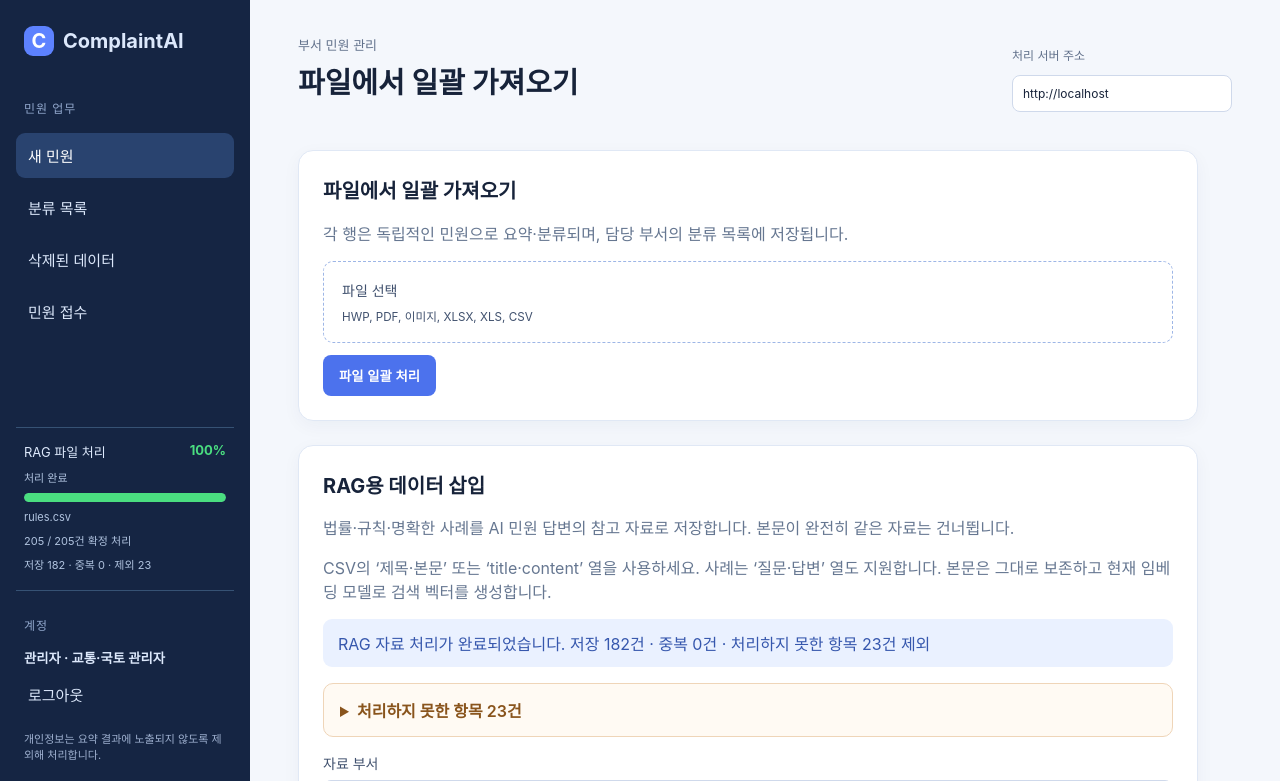
Test: restores exception counts after reload and paginates the details
Expected: the text "RAG 자료 처리가 완료되었습니다. 저장 182건 · 중복 0건 · 처리하지 못한 항목 23건 제외" is shown, [323, 619, 1173, 667]
Click the heading "처리하지 못한 항목 23건" at point(439, 711), box [357, 701, 522, 721]
(page scrolled)
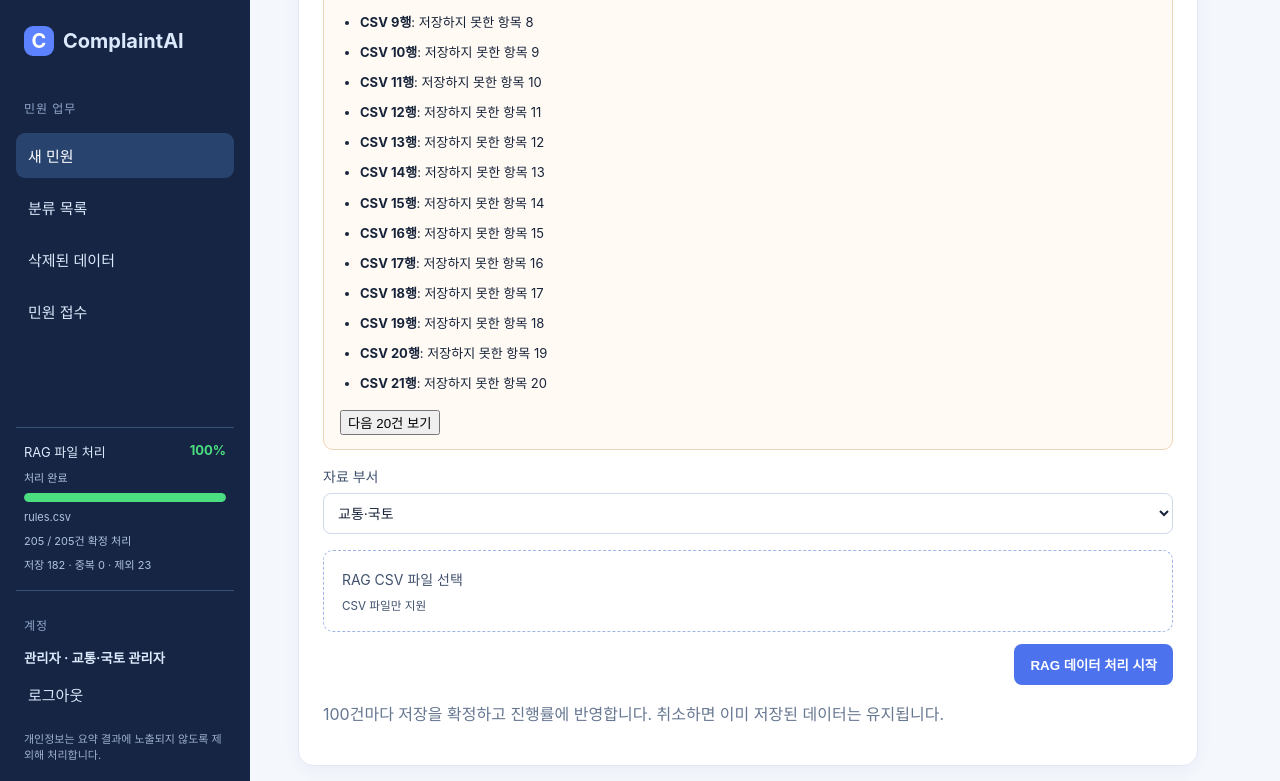
Expected: the text "CSV 24행" is not shown
Expected: the text "CSV 21행" is shown, [360, 375, 417, 391]
Click the button "다음 20건 보기" at point(390, 423), box [340, 410, 440, 435]
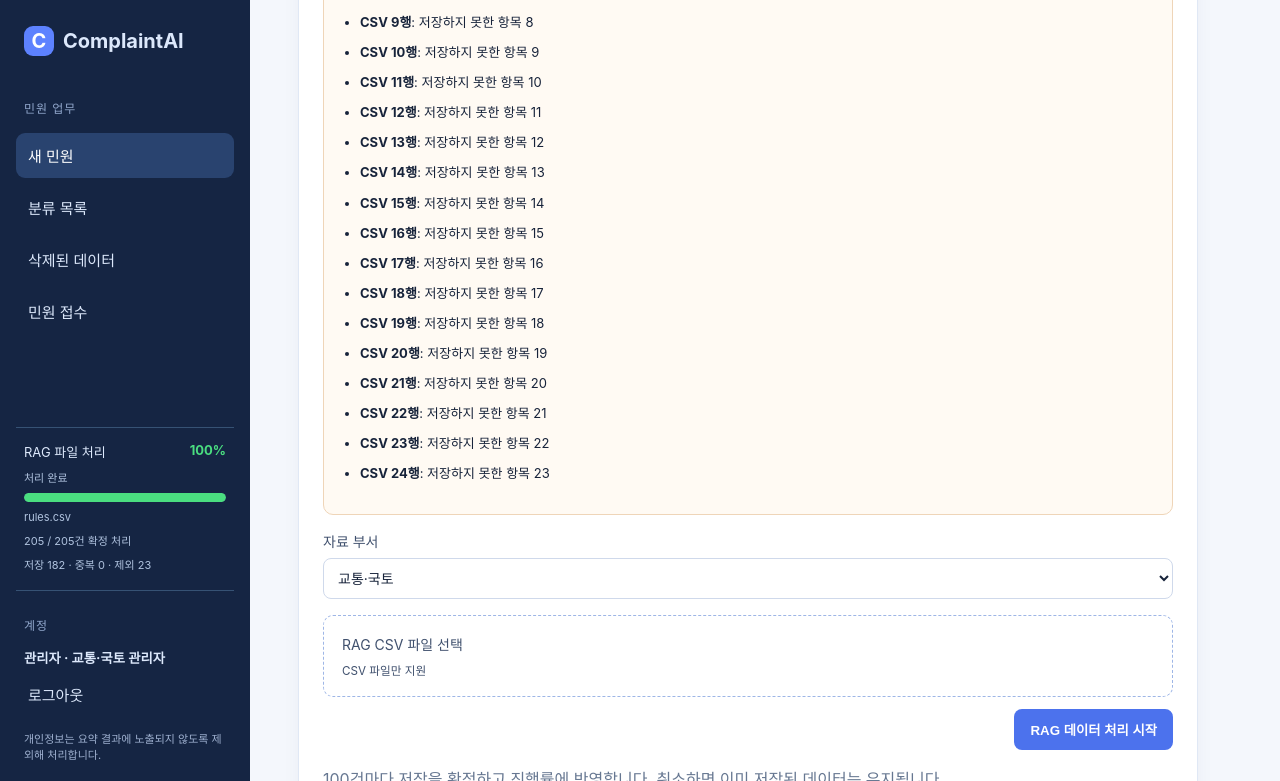
Expected: the text "CSV 24행" is shown, [360, 465, 420, 481]
Expected: the button "다음 20건 보기" is gone
